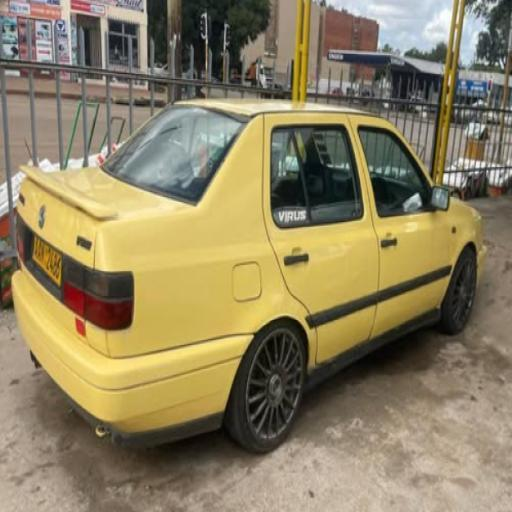number-plates: (30, 228, 64, 285)
